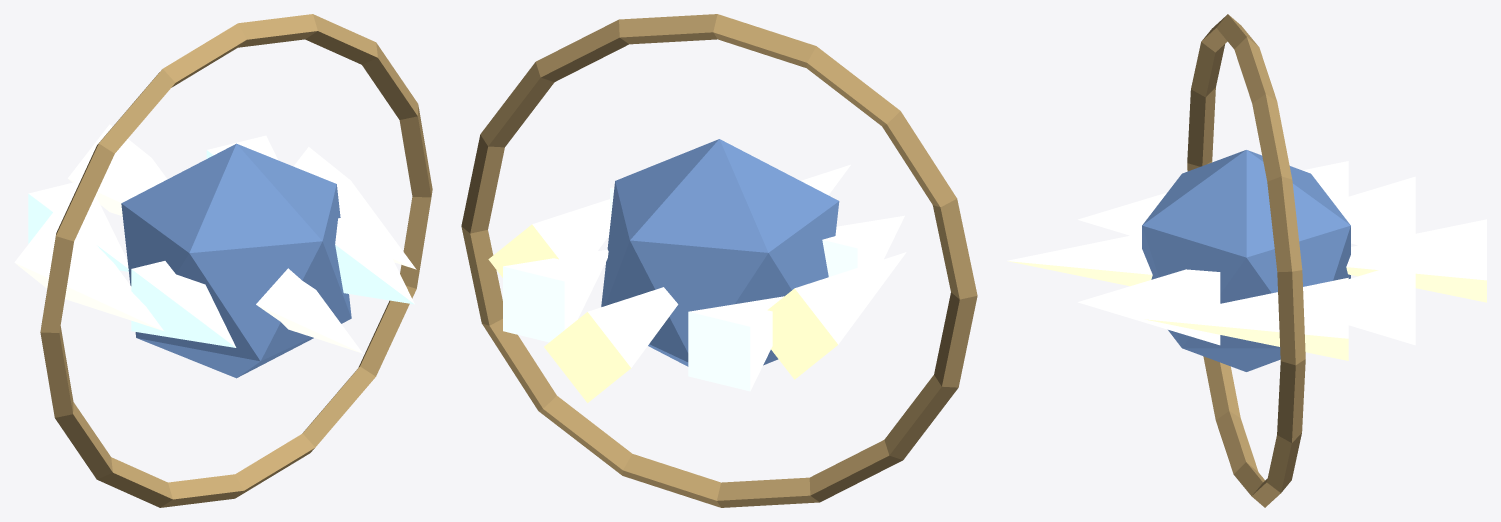
Rendered from star_focus.glb.
3 renders of one model, left to right at view 1: azimuth 30°, elevation 25°; view 2: azimuth 150°, elevation 25°; view 3: azimuth 270°, elevation 25°, orthographic. The views are drawn at different scales.
Visible parts, largest first — view 1: NightCore, CelestialOrbit, StarPoint_4, StarPoint_5, StarPoint_7, StarPoint_6, StarPoint_2, StarPoint_3, StarPoint_0, StarPoint_1; view 2: CelestialOrbit, NightCore, StarPoint_2, StarPoint_4, StarPoint_1, StarPoint_3, StarPoint_0, StarPoint_5, StarPoint_6; view 3: NightCore, CelestialOrbit, StarPoint_0, StarPoint_2, StarPoint_7, StarPoint_1, StarPoint_6, StarPoint_3, StarPoint_5, StarPoint_4.
Boxes of the visible parts, bbox=[...] form: NightCore: bbox=[121, 143, 351, 378]; CelestialOrbit: bbox=[40, 14, 432, 507]; StarPoint_4: bbox=[14, 208, 163, 330]; StarPoint_5: bbox=[131, 261, 236, 347]; StarPoint_7: bbox=[335, 211, 414, 304]; StarPoint_6: bbox=[256, 268, 362, 353]; StarPoint_2: bbox=[68, 124, 167, 216]; StarPoint_3: bbox=[28, 181, 128, 271]; StarPoint_0: bbox=[293, 147, 416, 269]; StarPoint_1: bbox=[206, 135, 277, 159]; CelestialOrbit: bbox=[461, 14, 977, 507]; NightCore: bbox=[601, 139, 839, 366]; StarPoint_2: bbox=[544, 287, 678, 402]; StarPoint_4: bbox=[767, 252, 906, 379]; StarPoint_1: bbox=[503, 249, 608, 342]; StarPoint_3: bbox=[688, 296, 783, 391]; StarPoint_0: bbox=[488, 199, 611, 277]; StarPoint_5: bbox=[822, 215, 904, 276]; StarPoint_6: bbox=[801, 164, 850, 195]; NightCore: bbox=[1142, 150, 1350, 371]; CelestialOrbit: bbox=[1187, 14, 1305, 507]; StarPoint_0: bbox=[1145, 277, 1348, 360]; StarPoint_2: bbox=[1346, 219, 1486, 302]; StarPoint_7: bbox=[1078, 269, 1220, 345]; StarPoint_1: bbox=[1348, 259, 1415, 345]; StarPoint_6: bbox=[1007, 233, 1152, 286]; StarPoint_3: bbox=[1333, 176, 1415, 245]; StarPoint_5: bbox=[1078, 192, 1166, 235]; StarPoint_4: bbox=[1302, 161, 1348, 202].
Bounding box in the file's own units: 0.9506 × 0.97 × 0.94.
